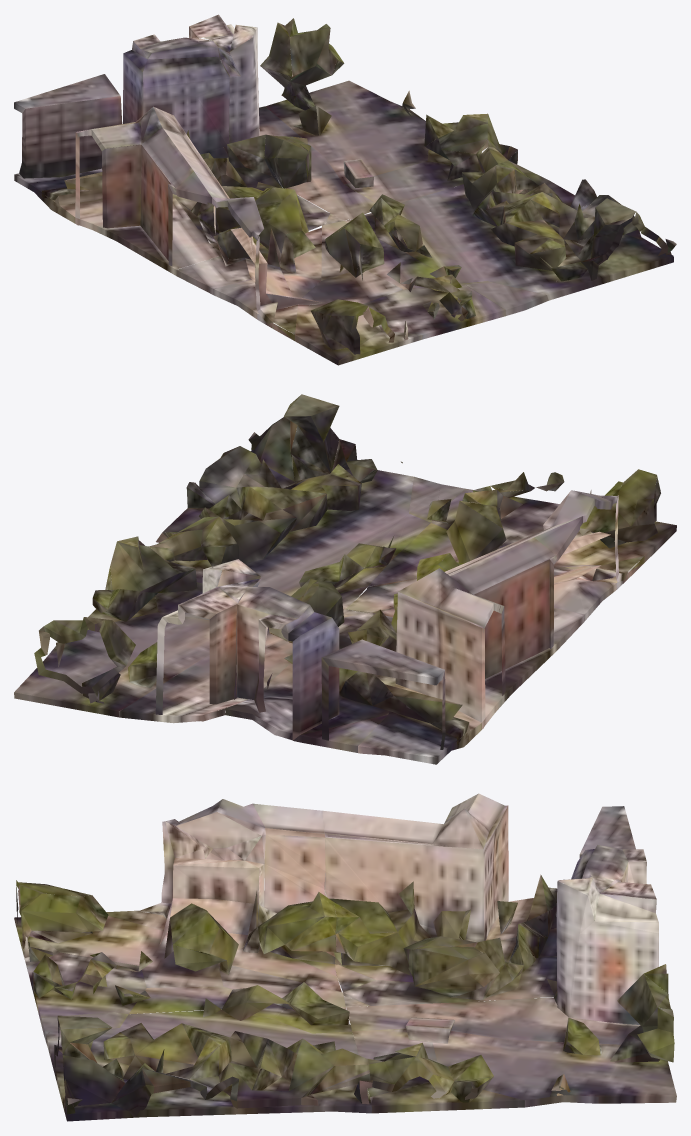
The picture shows the model from 3 angles, top to bottom: view 1: azimuth 30°, elevation 25°; view 2: azimuth 150°, elevation 25°; view 3: azimuth 270°, elevation 25°; orthographic projection. The views are drawn at different scales.
Visible parts, largest first — view 1: Mesh_0; view 2: Mesh_0; view 3: Mesh_0.
Boxes of the visible parts, bbox=[...] form: Mesh_0: bbox=[14, 14, 676, 365]; Mesh_0: bbox=[14, 394, 676, 764]; Mesh_0: bbox=[14, 793, 676, 1121].
Size of the model in its own units: 134 by 38.89 by 165.
Materials: 2 (2 with a texture image).
